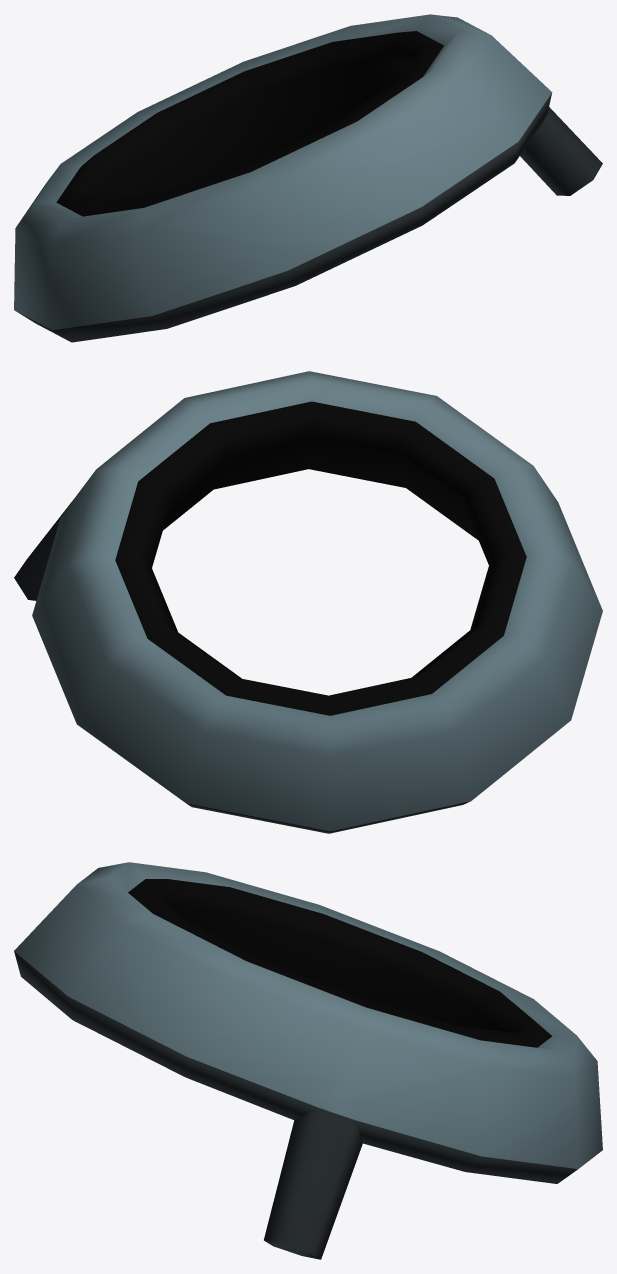
The model's file is Drone_002_wing_001.fbx.
3 views of the same model, one above another, from view 1: azimuth 30°, elevation 25°; view 2: azimuth 150°, elevation 25°; view 3: azimuth 270°, elevation 25° (orthographic). The views are drawn at different scales.
Visible parts, largest first — view 1: Drone_002_wing_001; view 2: Drone_002_wing_001; view 3: Drone_002_wing_001.
Part boxes in pixels (left/top/right/bottom): Drone_002_wing_001: left=14, top=14, right=602, bottom=342; Drone_002_wing_001: left=14, top=371, right=602, bottom=833; Drone_002_wing_001: left=14, top=862, right=602, bottom=1259.
Bounding box in the file's own units: 32.25 × 27.54 × 16.02.
